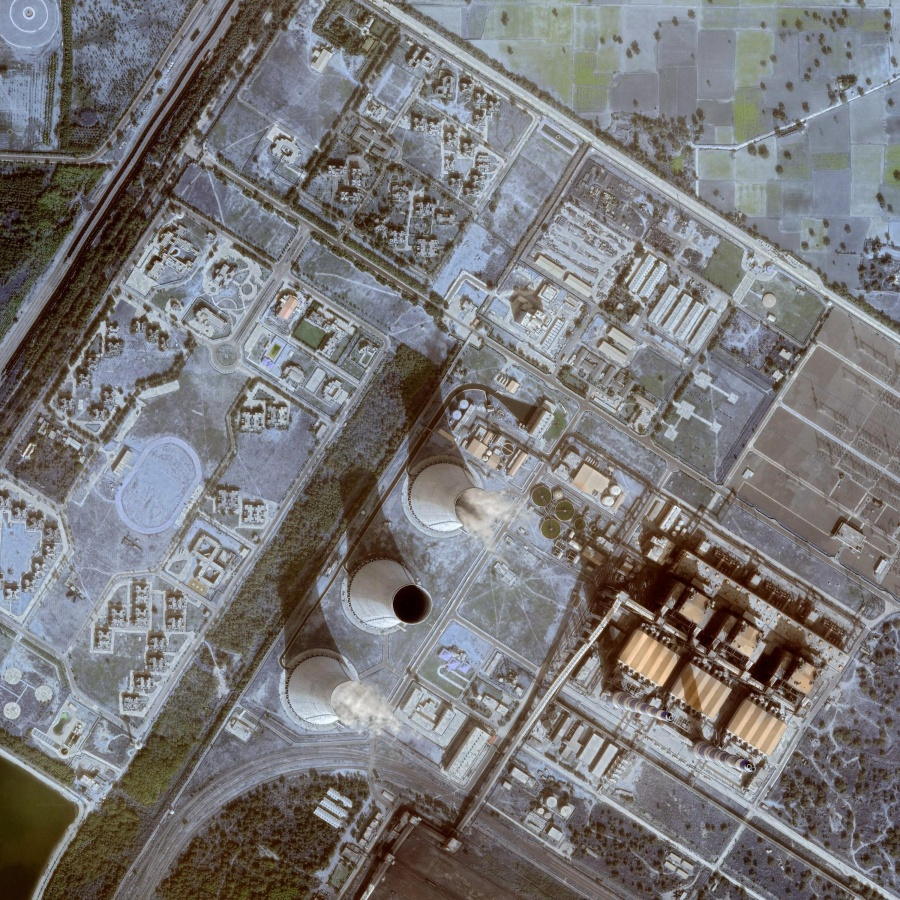PowerPlant: (273, 344, 823, 780)
